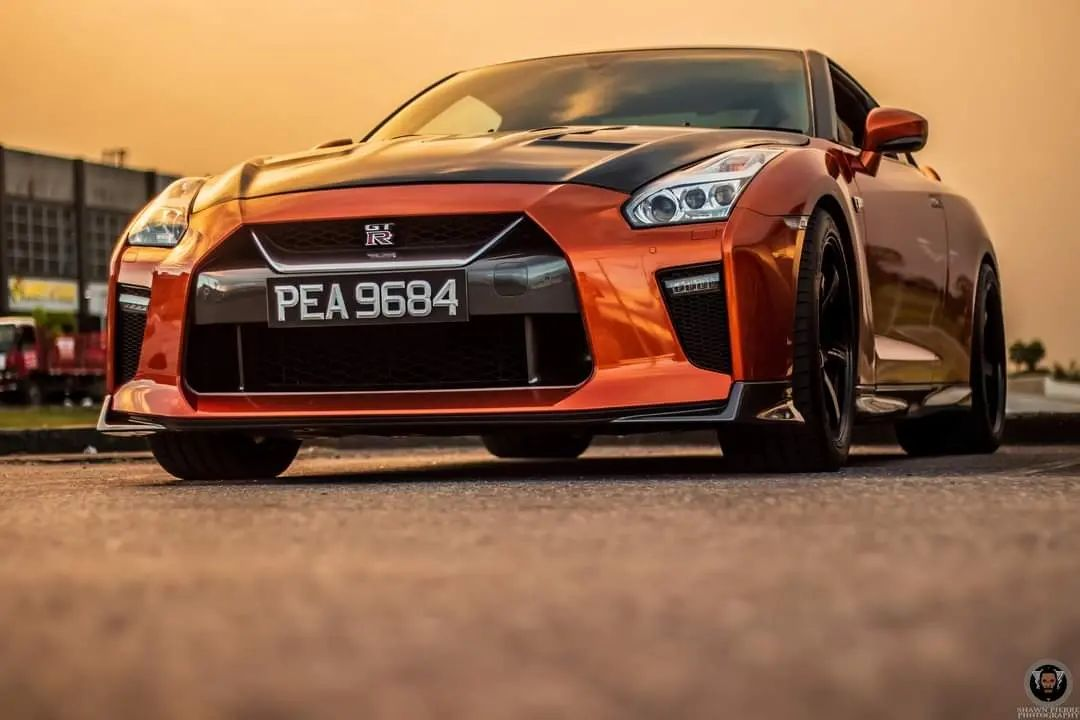License-Plate: (265, 278, 466, 327)
